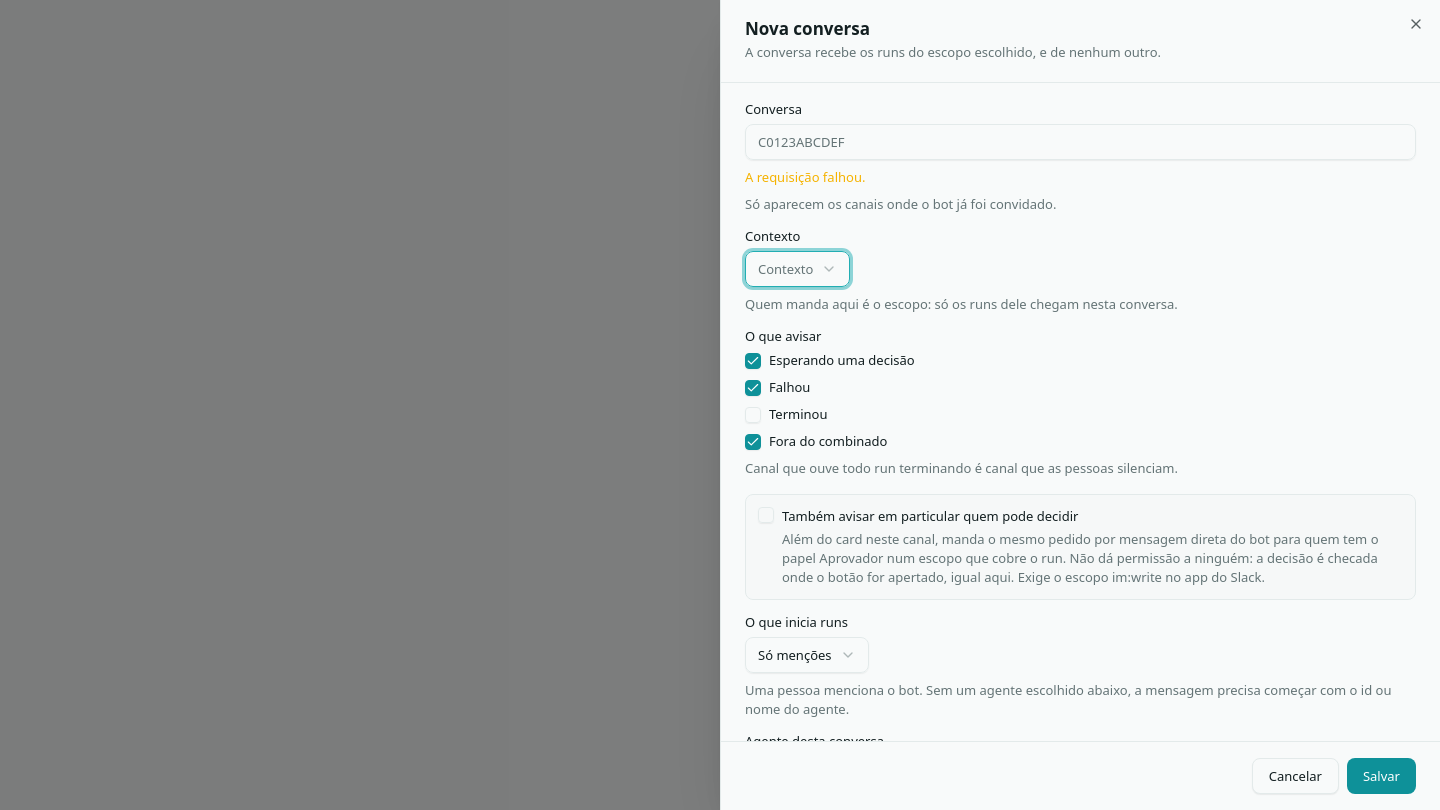
finishes that carry the answer › is offered only when Finished is among the announcements
Expected: the text "Só anunciar términos que tragam a resposta" is not shown
Click the text "Terminou".
click(786, 414)  # box [745,405,828,423]
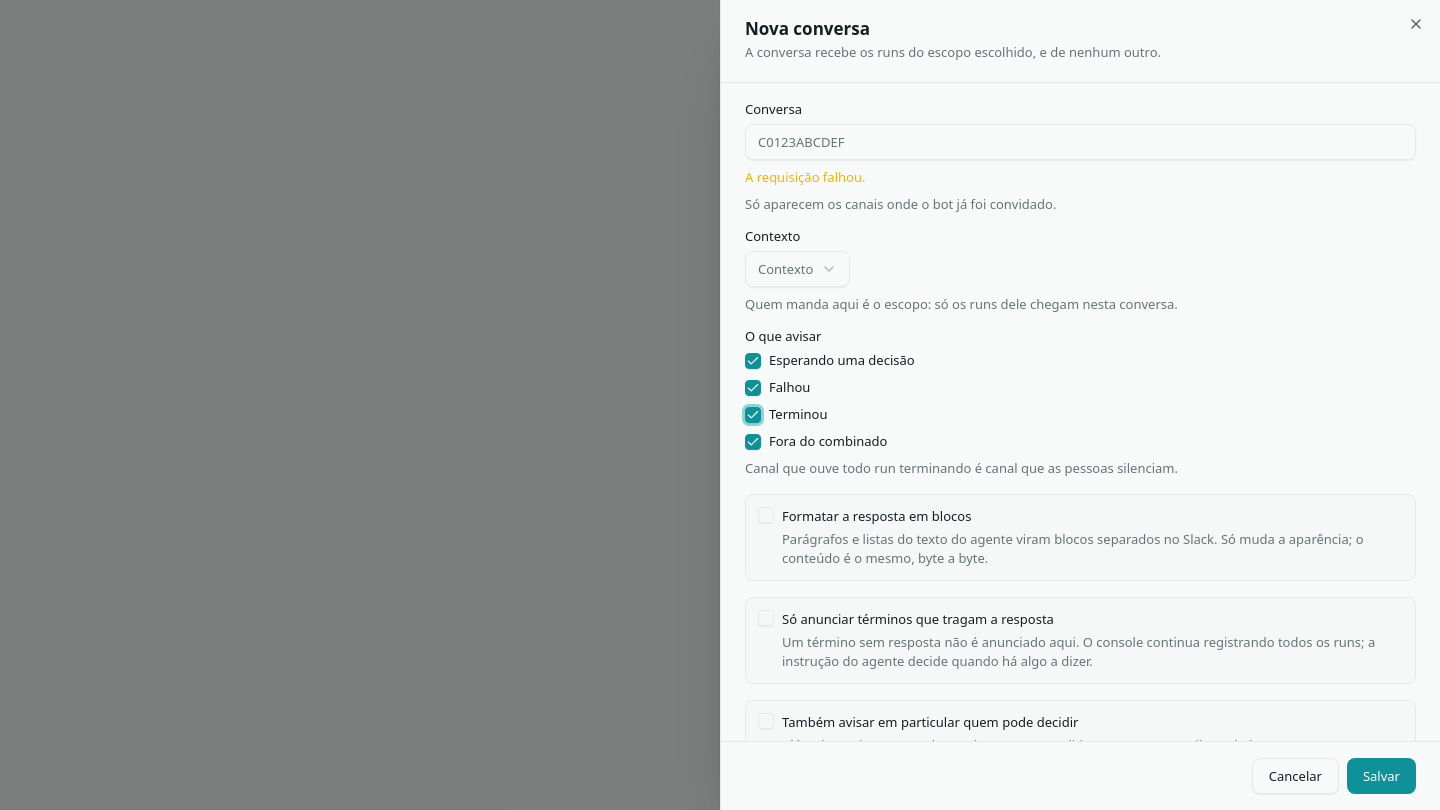
Expected: the text "Só anunciar términos que tragam a resposta" is shown, [782,610,1054,628]
